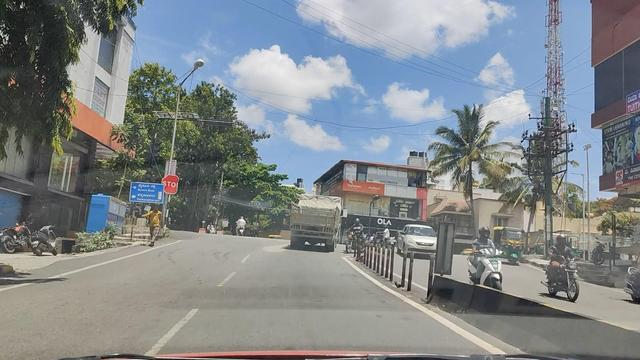HMV: (292, 196, 342, 246)
